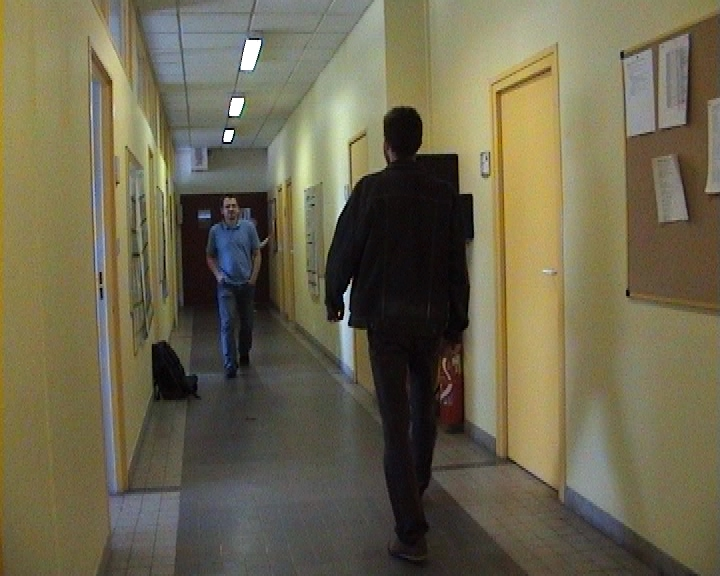leave bag unattended: (133, 329, 218, 414)
